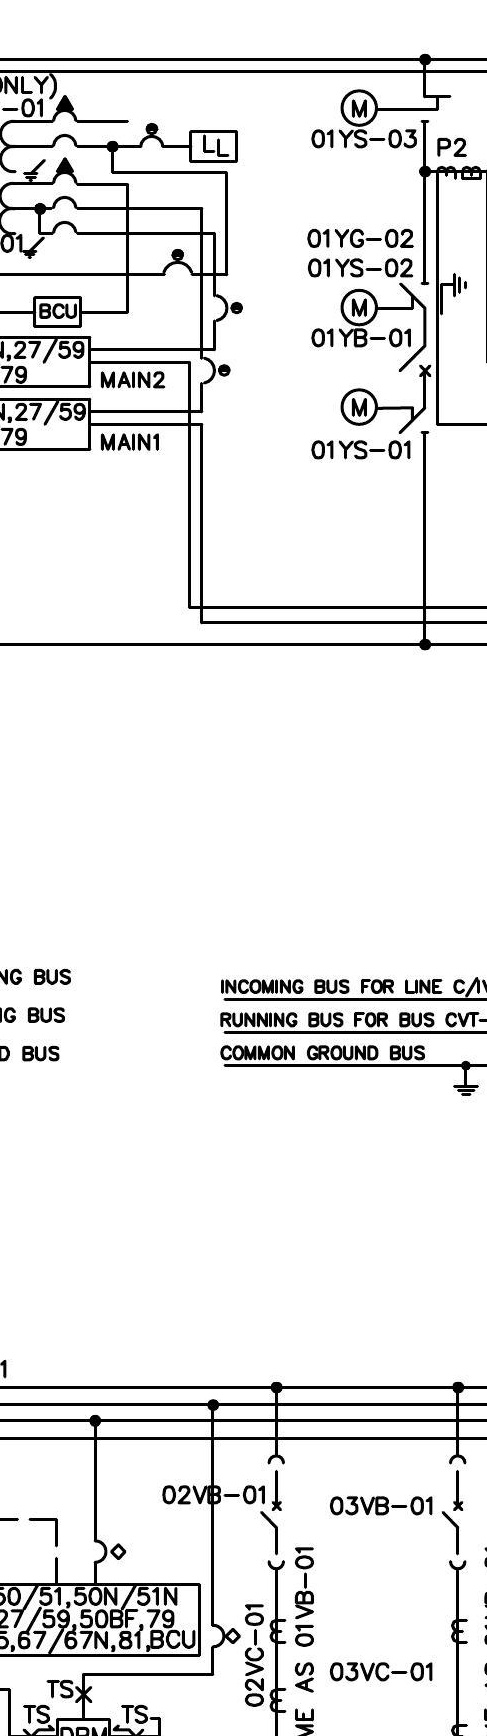115_1way_ds_w_motor: (339, 89, 453, 128), (340, 387, 431, 435)
115_3ways_ds_w_motor: (340, 272, 468, 327)
115_breaker: (398, 344, 432, 378)
22_breaker: (259, 1454, 286, 1571), (441, 1454, 467, 1571)
BCU: (32, 296, 83, 329)
LL: (188, 130, 238, 164)
